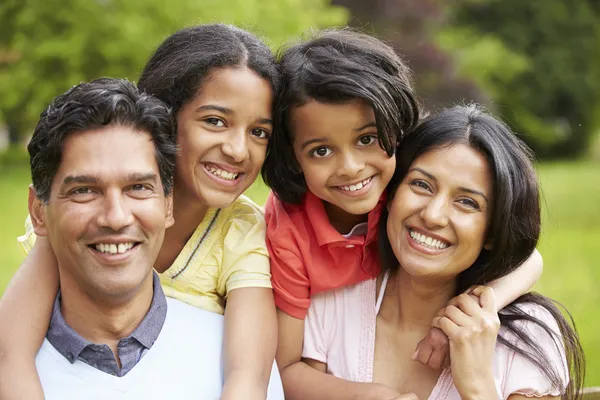men: (29, 75, 172, 313)
women: (385, 100, 546, 286), (148, 23, 273, 219), (283, 27, 403, 218)
